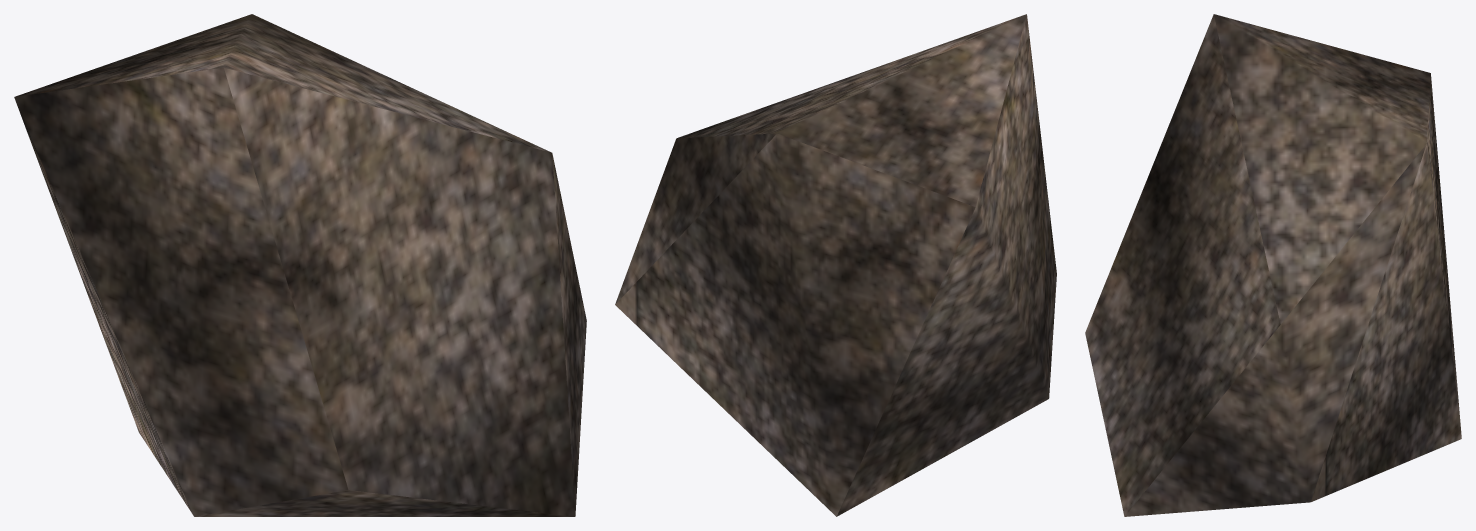
The model's file is Type1_Rock_small_1.fbx.
The picture shows the model from 3 angles, left to right: view 1: azimuth 30°, elevation 25°; view 2: azimuth 150°, elevation 25°; view 3: azimuth 270°, elevation 25°; orthographic projection. The views are drawn at different scales.
Visible parts, largest first — view 1: Type1_Rock_small_1; view 2: Type1_Rock_small_1; view 3: Type1_Rock_small_1.
Part boxes in pixels (x1,y1,x2,y2): Type1_Rock_small_1: (14,14,586,516); Type1_Rock_small_1: (615,14,1056,516); Type1_Rock_small_1: (1085,14,1461,516).
Size of the model in its own units: 1 by 0.9521 by 0.8172.
